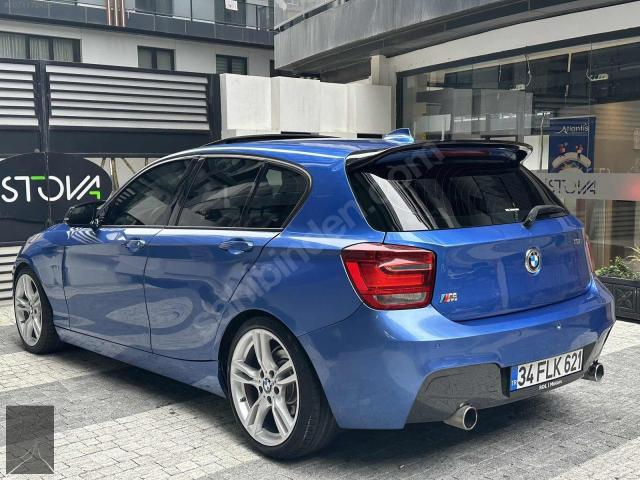plaka: (511, 349, 583, 390)
